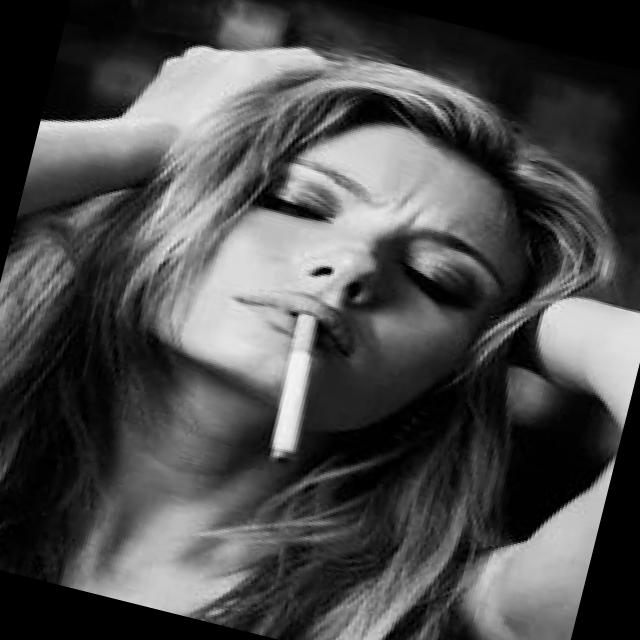cigarette: (248, 302, 353, 483)
